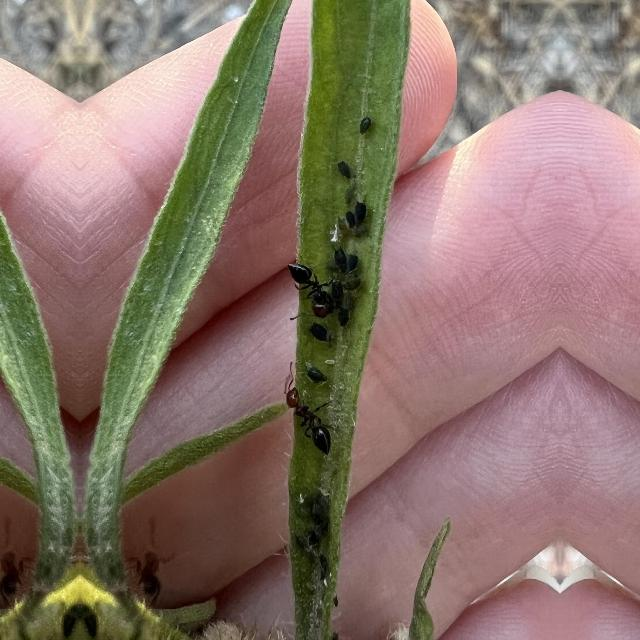Crematogaster: (282, 380, 340, 454), (280, 262, 340, 318), (126, 535, 176, 601), (0, 535, 34, 601)
